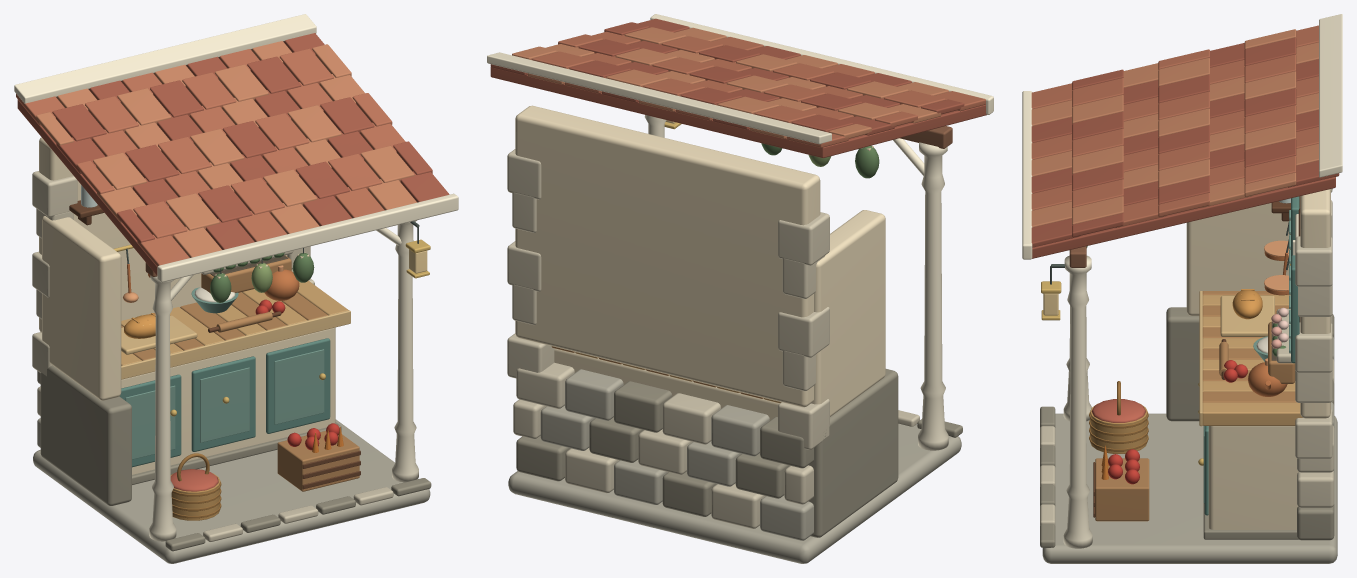
The model's file is kitchen_bench.glb.
The picture shows the model from 3 angles, left to right: view 1: azimuth 30°, elevation 25°; view 2: azimuth 150°, elevation 25°; view 3: azimuth 270°, elevation 25°; orthographic projection. The views are drawn at different scales.
Visible parts, largest first — view 1: Kitchen_plaster, Kitchen_roofShade, Kitchen_trim, Kitchen_roof, Kitchen_roofLight, Kitchen_stone, Kitchen_stoneDark, Kitchen_tealLight, Kitchen_woodLight, Kitchen_teal, Kitchen_stoneLight, Kitchen_endGrain (+10 smaller); view 2: Kitchen_plaster, Kitchen_stoneLight, Kitchen_stone, Kitchen_stoneDark, Kitchen_roofShade, Kitchen_trim, Kitchen_roof, Kitchen_roofLight, Kitchen_leaf, Kitchen_wood; view 3: Kitchen_plaster, Kitchen_roofShade, Kitchen_stone, Kitchen_roofLight, Kitchen_roof, Kitchen_trim, Kitchen_stoneLight, Kitchen_stoneDark, Kitchen_woodLight, Kitchen_woodPale, Kitchen_endGrain, Kitchen_teal (+11 smaller).
Boxes of the visible parts, x1=… form: Kitchen_plaster: x1=39, y1=137, x2=335, y2=474; Kitchen_roofShade: x1=17, y1=33, x2=449, y2=275; Kitchen_trim: x1=14, y1=14, x2=458, y2=541; Kitchen_roof: x1=16, y1=48, x2=405, y2=266; Kitchen_roofLight: x1=36, y1=41, x2=416, y2=257; Kitchen_stone: x1=33, y1=418, x2=430, y2=563; Kitchen_stoneDark: x1=37, y1=365, x2=431, y2=551; Kitchen_tealLight: x1=125, y1=287, x2=324, y2=459; Kitchen_woodLight: x1=121, y1=255, x2=359, y2=491; Kitchen_teal: x1=119, y1=338, x2=330, y2=467; Kitchen_stoneLight: x1=32, y1=171, x2=393, y2=541; Kitchen_endGrain: x1=121, y1=310, x2=350, y2=379; Kitchen_plaster: x1=515, y1=105, x2=885, y2=420; Kitchen_stoneLight: x1=507, y1=149, x2=919, y2=528; Kitchen_stone: x1=508, y1=369, x2=961, y2=563; Kitchen_stoneDark: x1=516, y1=369, x2=962, y2=537; Kitchen_roofShade: x1=490, y1=18, x2=986, y2=158; Kitchen_trim: x1=487, y1=14, x2=993, y2=450; Kitchen_roof: x1=532, y1=31, x2=985, y2=147; Kitchen_roofLight: x1=512, y1=27, x2=948, y2=138; Kitchen_leaf: x1=761, y1=143, x2=879, y2=178; Kitchen_wood: x1=900, y1=126, x2=952, y2=148; Kitchen_plaster: x1=1186, y1=189, x2=1330, y2=529; Kitchen_roofShade: x1=1031, y1=37, x2=1339, y2=258; Kitchen_stone: x1=1042, y1=336, x2=1337, y2=563; Kitchen_roofLight: x1=1031, y1=29, x2=1318, y2=227; Kitchen_roof: x1=1031, y1=25, x2=1318, y2=227; Kitchen_trim: x1=1022, y1=14, x2=1342, y2=548; Kitchen_stoneLight: x1=1040, y1=188, x2=1334, y2=525; Kitchen_stoneDark: x1=1040, y1=307, x2=1334, y2=547; Kitchen_woodLight: x1=1095, y1=291, x2=1296, y2=521; Kitchen_woodPale: x1=1202, y1=295, x2=1302, y2=425; Kitchen_endGrain: x1=1199, y1=291, x2=1274, y2=426; Kitchen_teal: x1=1204, y1=196, x2=1299, y2=515.
Bounding box in the file's own units: 2.16 × 2.66 × 1.89.
